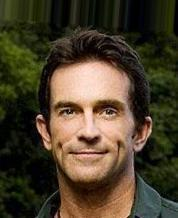face: (56, 100, 119, 162)
